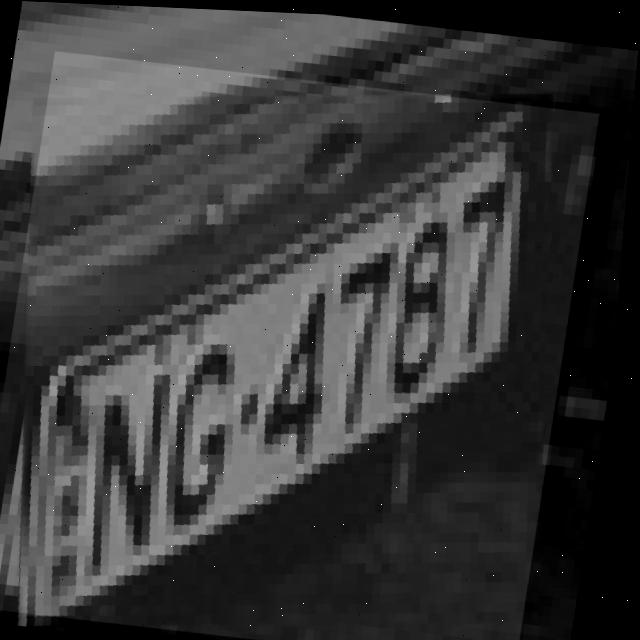LicensePlate: (0, 49, 603, 640)
